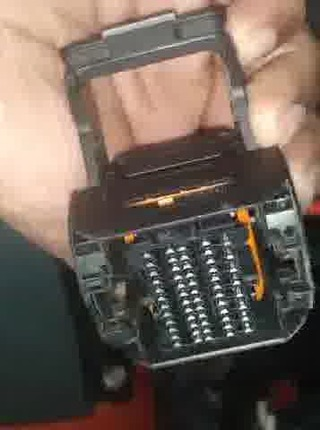connector: (69, 79, 315, 370)
